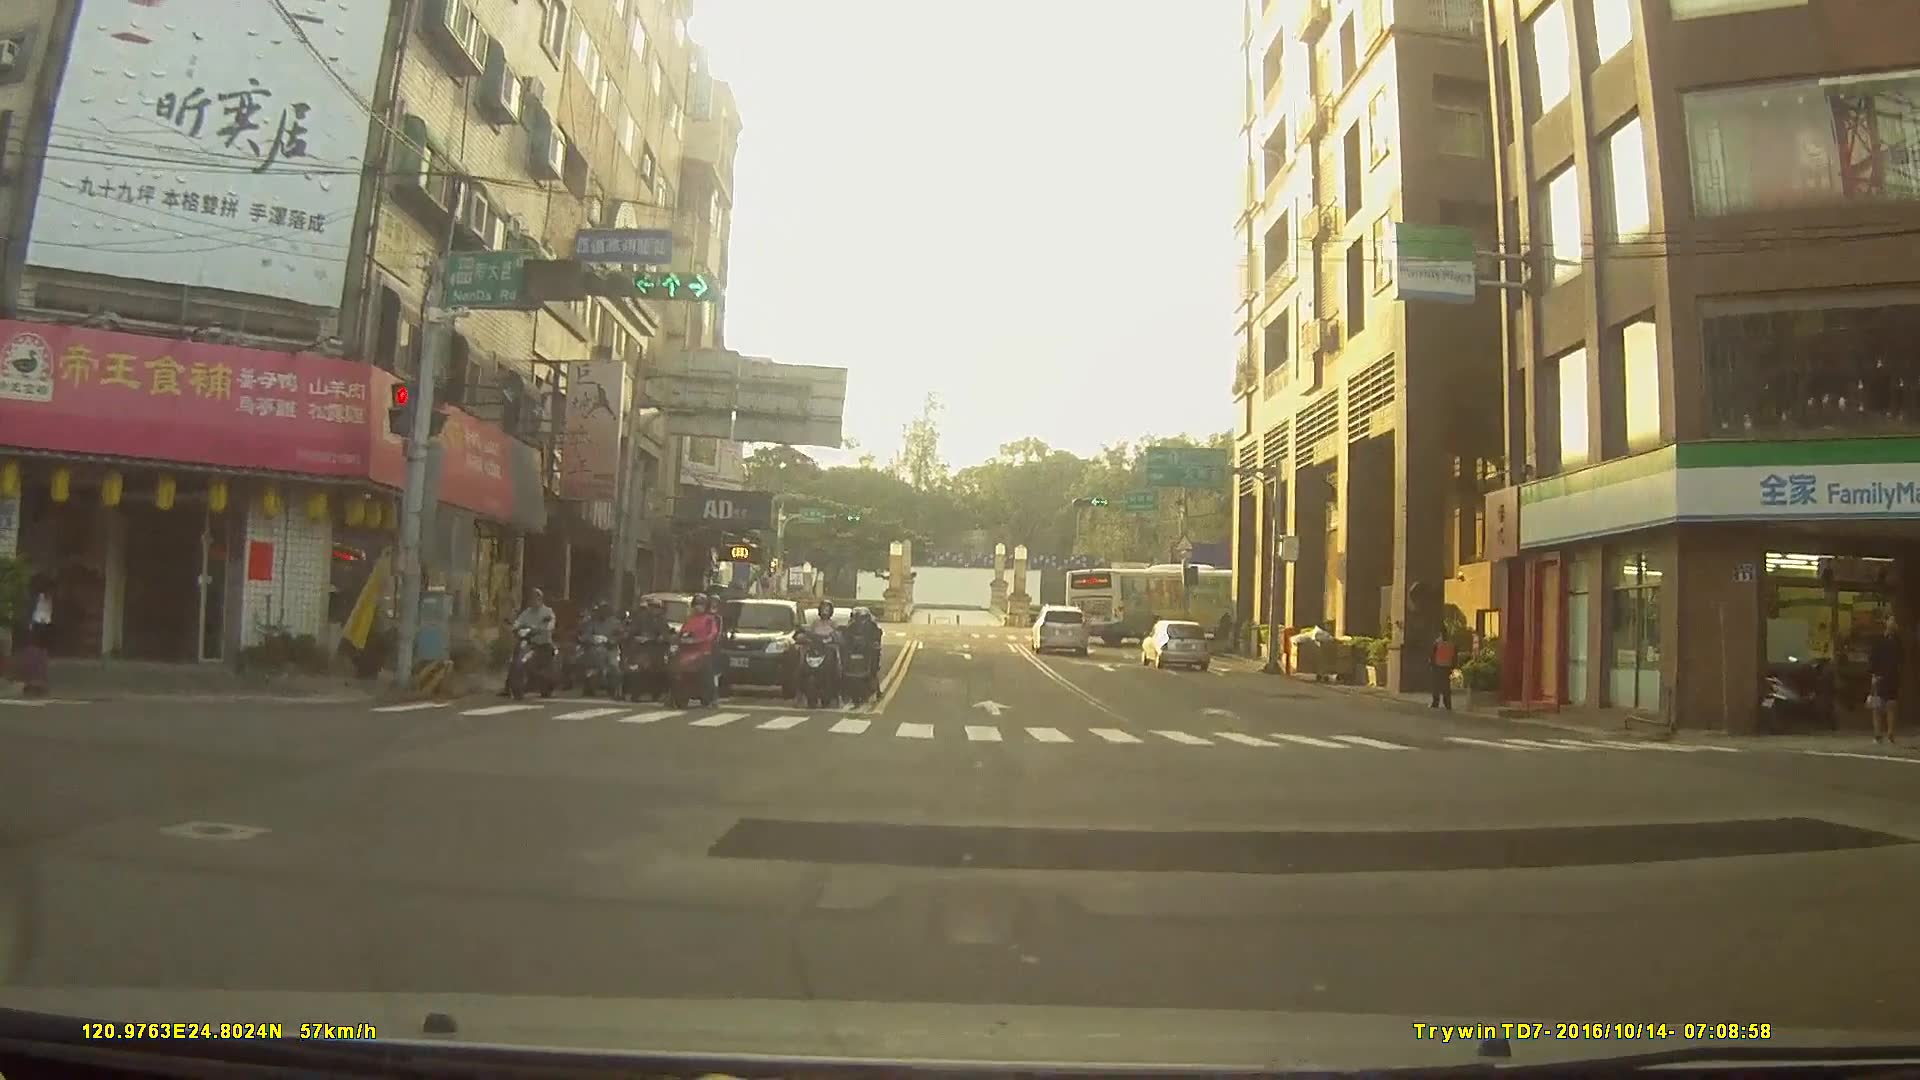pedestrian: (1865, 613, 1911, 744), (23, 563, 66, 697), (1427, 627, 1459, 709)
rider: (662, 593, 727, 715), (502, 590, 564, 701), (799, 601, 848, 707), (570, 602, 618, 700), (622, 599, 668, 701), (838, 613, 883, 706)
vehicle: (1063, 564, 1248, 641), (688, 596, 805, 697), (1138, 616, 1211, 668), (1030, 603, 1090, 655)
